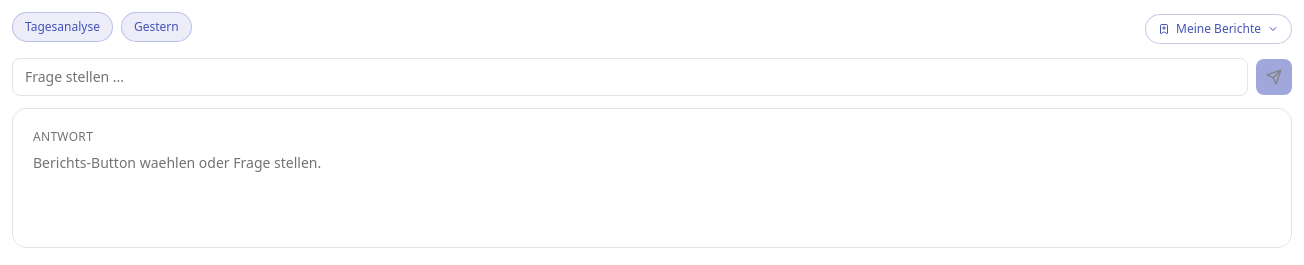
Test case: KIWorkspace › V7.6 SLC-763 Custom-Reports wire-up › Save-as-Report button is hidden after Standard-Bericht click (DEC-216)
Click the button with test id "ki-workspace-report-tagesanalyse": (62, 27) [12,12,113,42]
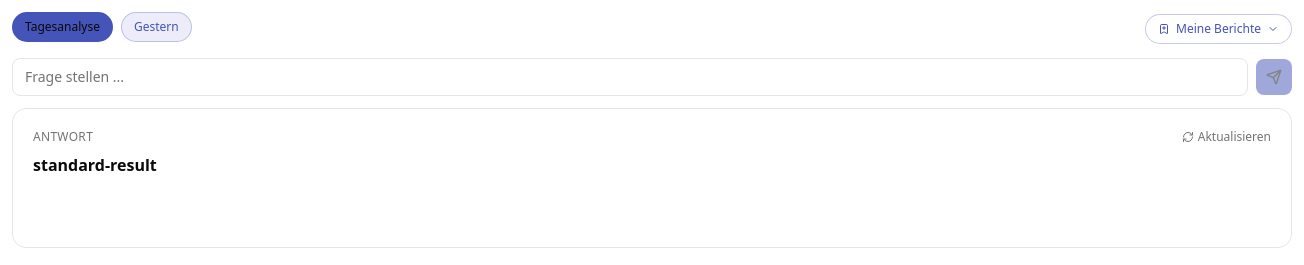
Check: the element with test id "ki-workspace-result" reads "standard-result", box [33,154,157,176]
